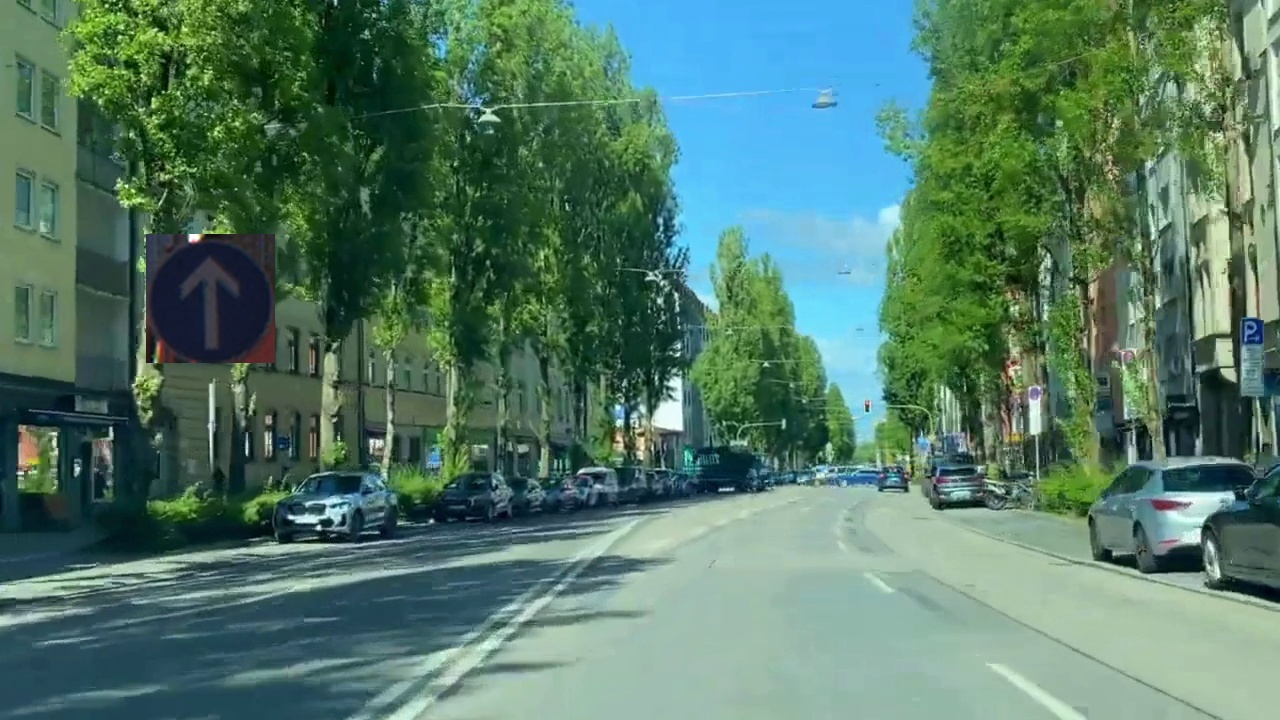Ahead only: (146, 234, 275, 363)
